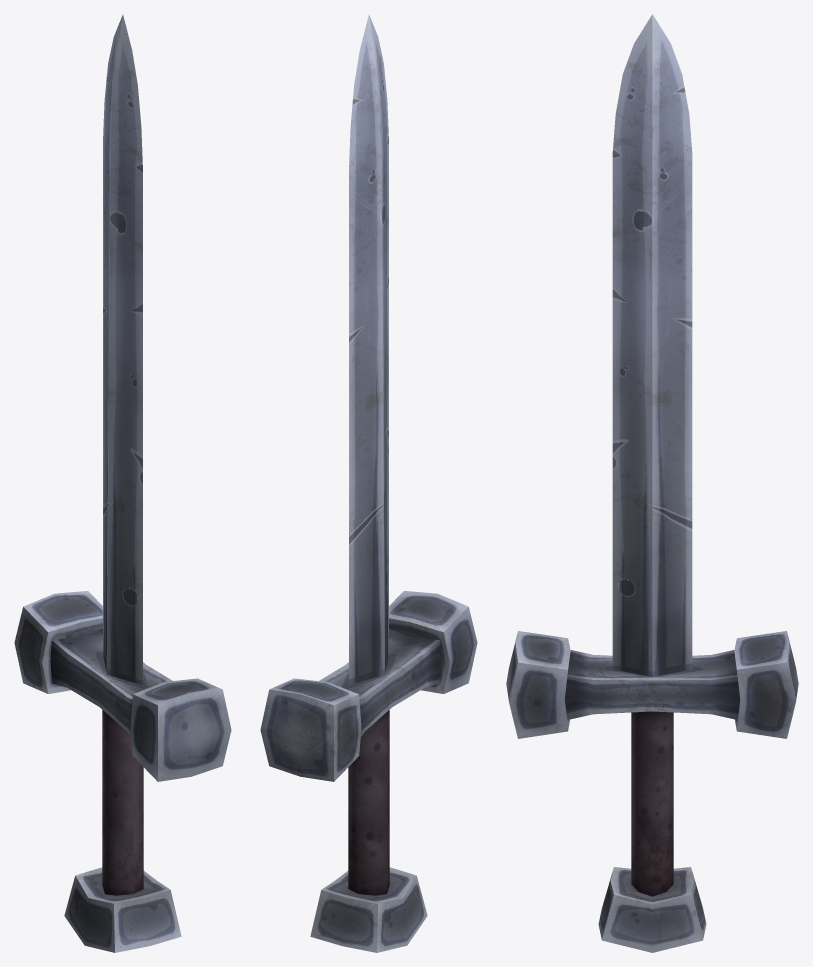
Rendered from broadsword.FBX.
3 views of the same model, side by side, from view 1: azimuth 30°, elevation 25°; view 2: azimuth 150°, elevation 25°; view 3: azimuth 270°, elevation 25° (orthographic).
Visible parts, largest first — view 1: broadsword; view 2: broadsword; view 3: broadsword.
Part boxes in pixels (x1=…): broadsword: x1=14, y1=14, x2=231, y2=952; broadsword: x1=260, y1=14, x2=477, y2=952; broadsword: x1=506, y1=14, x2=798, y2=952.
Size of the model in its own units: 12.32 by 40.88 by 142.
